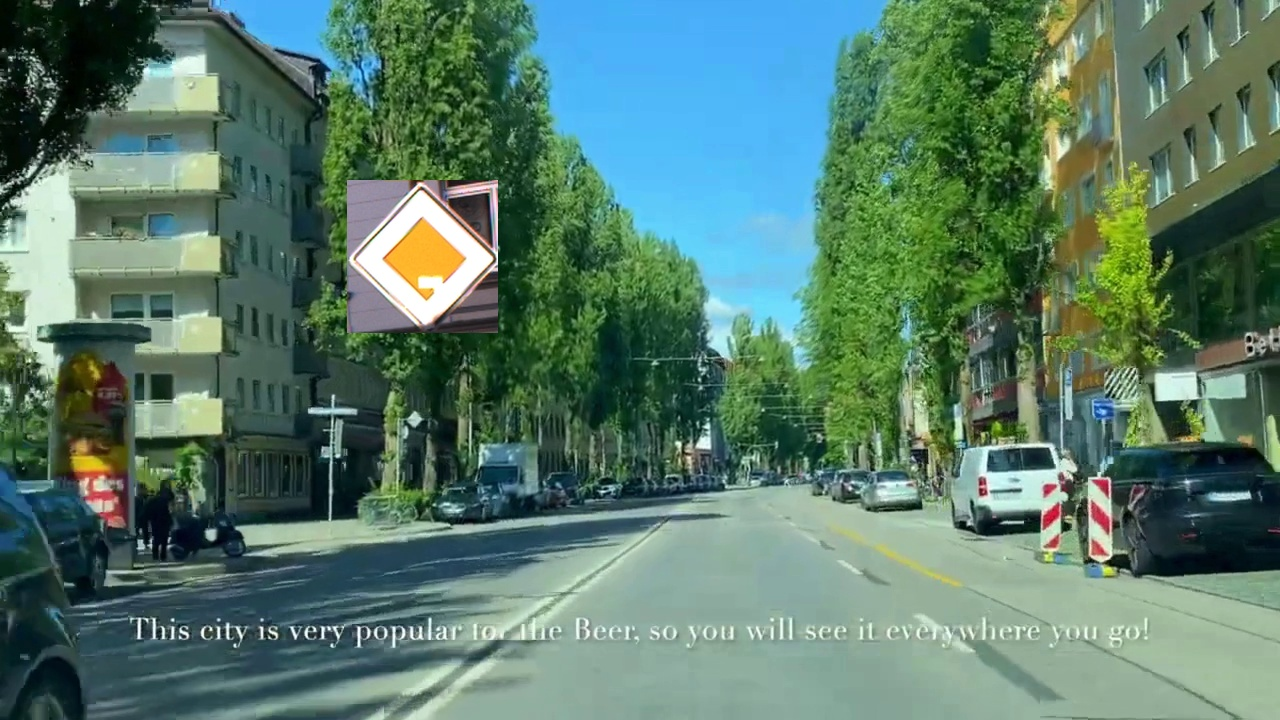Priority road: (347, 180, 498, 333)
